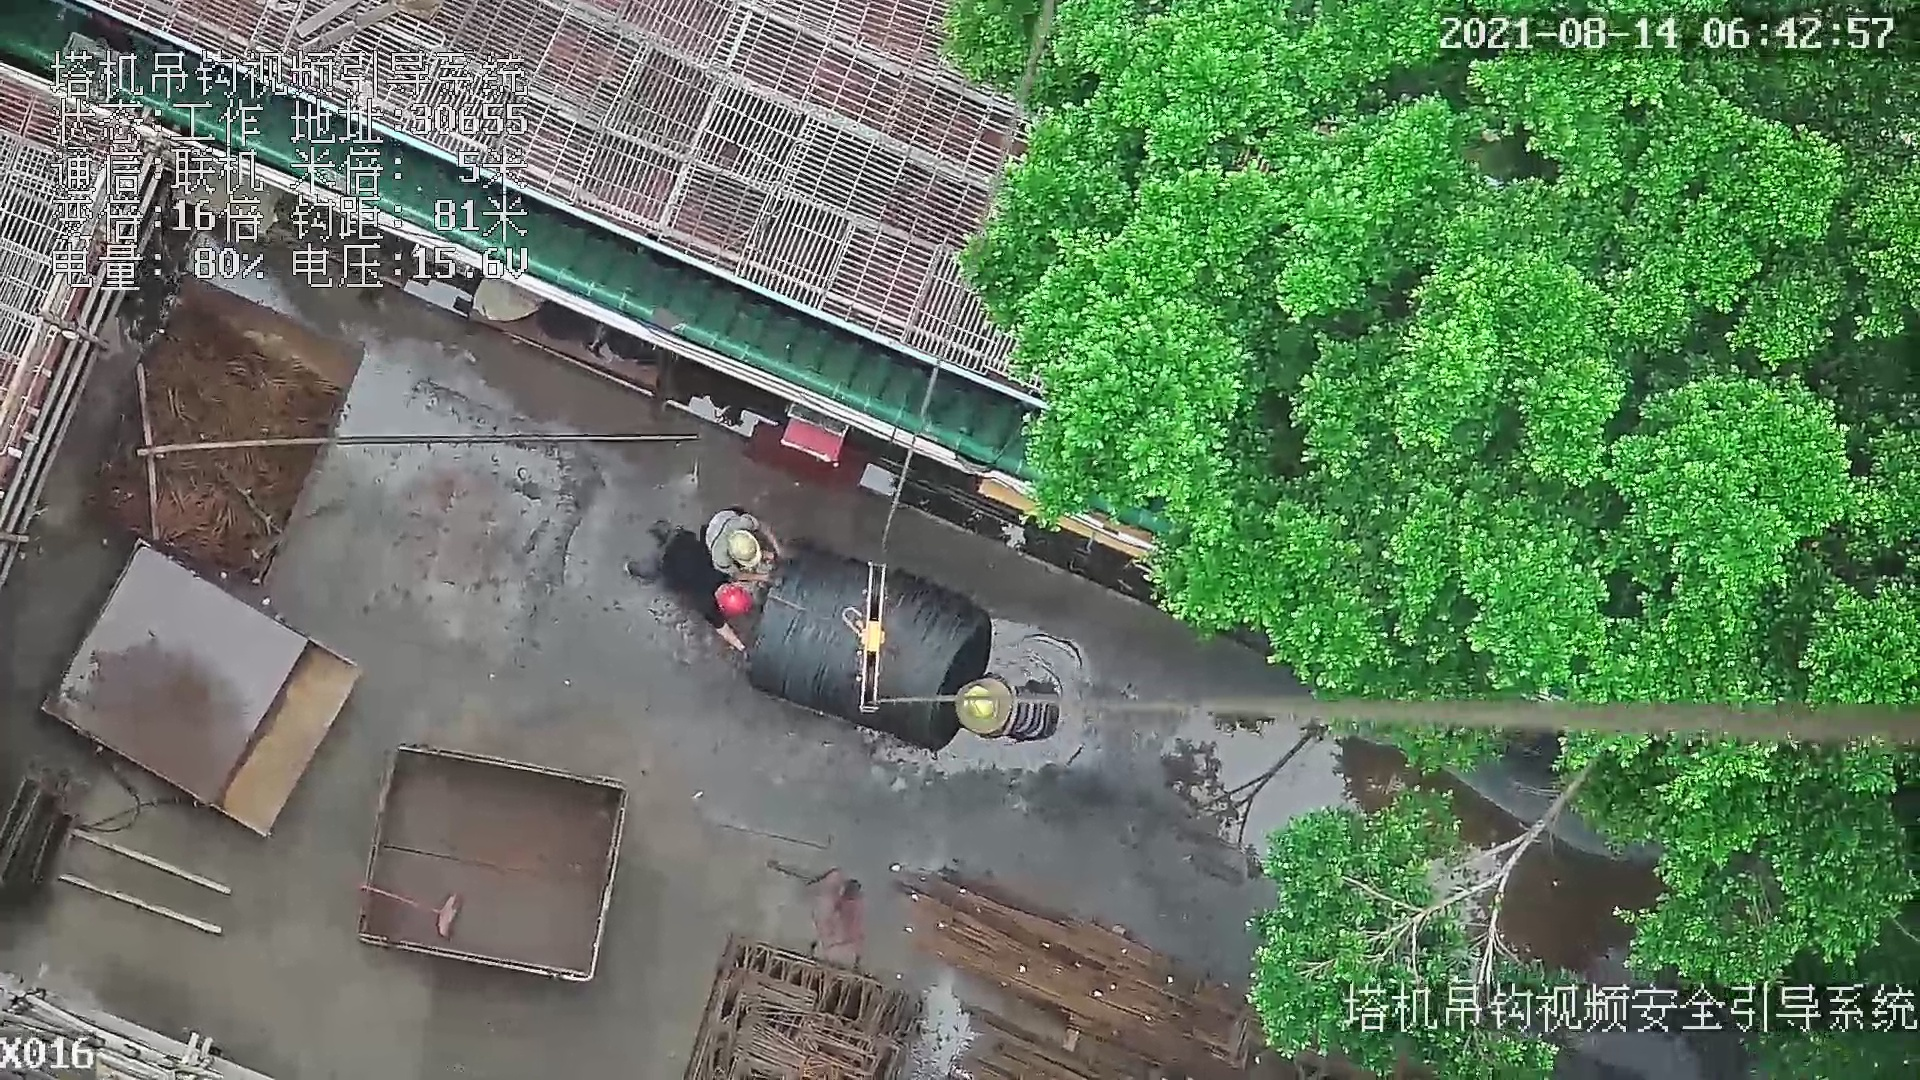helmet: (715, 580, 755, 624), (962, 683, 1003, 726), (722, 526, 764, 565)
person: (628, 519, 754, 650), (950, 664, 1063, 747), (690, 499, 777, 580)
